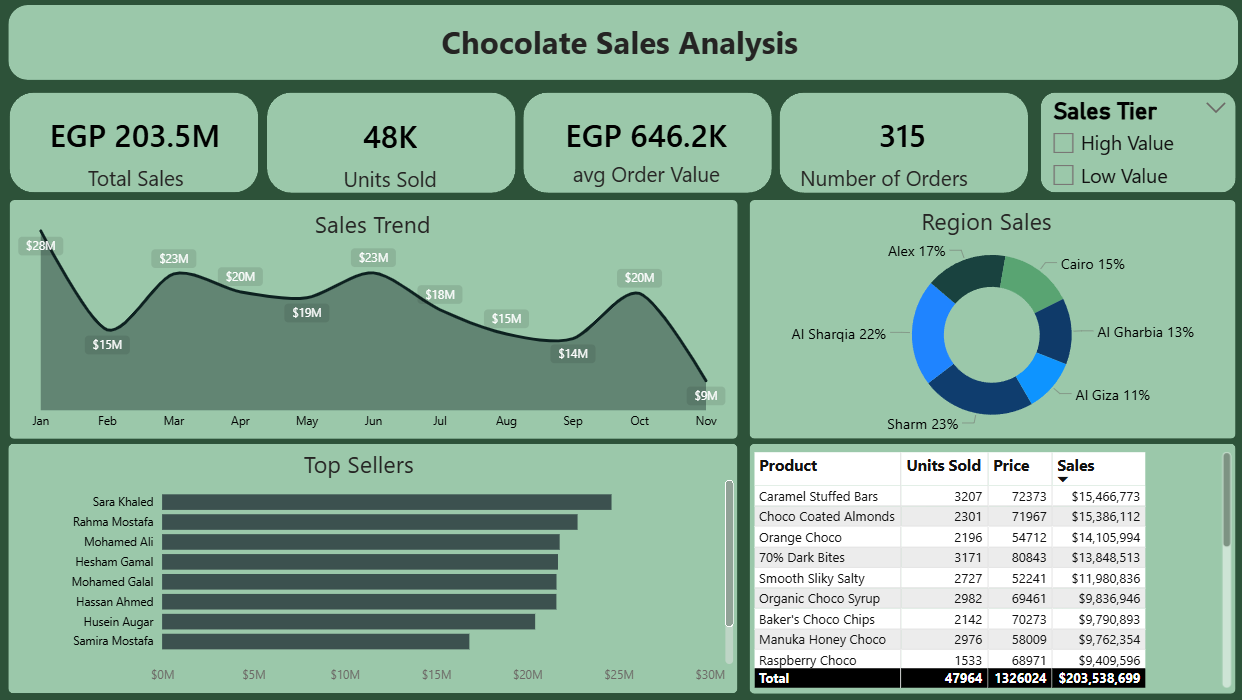

This screenshot's page, from the dashboard's own definition file:
{"tool":"powerbi","page":{"name":"Page 1","canvas":[1280,720],"ordinal":0},"visuals":[{"type":"shape","box":[12.8,94.9,255.1,102.6],"z":0},{"type":"shape","box":[13.2,204.7,746.9,245.2],"z":1000},{"type":"shape","box":[802.3,94.9,255,102.9],"z":2000},{"type":"shape","box":[771.8,205.1,498.7,244.9],"z":3000},{"type":"shape","box":[12,454.7,748,256],"z":4000},{"type":"shape","box":[1070.5,94.9,200,102.6],"z":4500},{"type":"shape","box":[771.8,455.1,498.7,256.4],"z":5000},{"type":"shape","box":[539.5,94.9,255,102.9],"z":6000},{"type":"shape","box":[276.6,94.9,255,102.9],"z":7000},{"type":"shape","box":[11.5,5.1,1261.5,76.9],"z":8000},{"type":"textbox","box":[71.8,162.8,141,50],"z":9000},{"type":"textbox","box":[330.1,16.5,618.6,54.3],"z":10000},{"type":"textbox","box":[275.6,164.1,255.1,50],"z":11000},{"type":"cardVisual","fields":{"Data":["Raw-data.Average Order Value"]},"box":[538.7,102.6,255.1,67.9],"z":12000},{"type":"textbox","box":[538.7,159,255.1,50],"z":13000},{"type":"cardVisual","fields":{"Data":["Raw-data.Number of Orders"]},"box":[801.3,102.6,255.1,67.9],"z":14000},{"type":"cardVisual","fields":{"Data":["Raw-data.Total Sales"]},"box":[14.1,102.6,255.1,67.9],"z":15000},{"type":"textbox","box":[782.1,162.8,255.1,50],"z":16000},{"type":"lineChart","fields":{"Y":["Raw-data.Total Sales"],"Category":["Raw-data.Months"]},"box":[13.2,207.5,746.9,242.3],"z":17000},{"type":"donutChart","fields":{"Y":["Raw-data.Total Sales"],"Category":["Raw-data.Geography"]},"box":[770.5,233.3,500,220.5],"z":18000},{"type":"textbox","box":[230.9,209,309.3,49.9],"z":19000},{"type":"textbox","box":[860.8,205.1,309.3,49.9],"z":20000},{"type":"cardVisual","fields":{"Data":["Raw-data.Number of Units Sold"]},"box":[275.6,103.8,255.1,67.9],"z":21000},{"type":"clusteredBarChart","fields":{"Category":["Raw-data.Sales Person"],"Y":["Raw-data.Total Sales"]},"box":[11.5,479.5,748.7,230.8],"z":22000},{"type":"textbox","box":[217.2,454.9,308.8,50],"z":23000},{"type":"tableEx","fields":{"Values":["Raw-data.Product","Sum(Raw-data.Units)","Sum(Raw-data.Amount)","Sum(Raw-data.Total)"]},"box":[770.5,459,500,251.3],"z":24000},{"type":"slicer","fields":{"Values":["Raw-data.Sale Preformance"]},"box":[1070.5,94.9,202.6,115.4],"z":25000}]}

Visuals, with their boxes in screenshot pixels (x1, y1, x2, y2), scaled from the page's 1280x720 canvas onto the 1242x700 screenshot:
shape: [left=12, top=92, right=260, bottom=192]
shape: [left=13, top=199, right=738, bottom=437]
shape: [left=778, top=92, right=1026, bottom=192]
shape: [left=749, top=199, right=1233, bottom=438]
shape: [left=12, top=442, right=737, bottom=691]
shape: [left=1039, top=92, right=1233, bottom=192]
shape: [left=749, top=442, right=1233, bottom=692]
shape: [left=523, top=92, right=771, bottom=192]
shape: [left=268, top=92, right=516, bottom=192]
shape: [left=11, top=5, right=1235, bottom=80]
textbox: [left=70, top=158, right=206, bottom=207]
textbox: [left=320, top=16, right=921, bottom=69]
textbox: [left=267, top=160, right=515, bottom=208]
cardVisual - Raw-data.Average Order Value: [left=523, top=100, right=770, bottom=166]
textbox: [left=523, top=155, right=770, bottom=203]
cardVisual - Raw-data.Number of Orders: [left=778, top=100, right=1025, bottom=166]
cardVisual - Raw-data.Total Sales: [left=14, top=100, right=261, bottom=166]
textbox: [left=759, top=158, right=1006, bottom=207]
lineChart - Raw-data.Total Sales x Raw-data.Months: [left=13, top=202, right=738, bottom=437]
donutChart - Raw-data.Total Sales x Raw-data.Geography: [left=748, top=227, right=1233, bottom=441]
textbox: [left=224, top=203, right=524, bottom=252]
textbox: [left=835, top=199, right=1135, bottom=248]
cardVisual - Raw-data.Number of Units Sold: [left=267, top=101, right=515, bottom=167]
clusteredBarChart - Raw-data.Sales Person x Raw-data.Total Sales: [left=11, top=466, right=738, bottom=691]
textbox: [left=211, top=442, right=510, bottom=491]
tableEx - Raw-data.Product x Sum(Raw-data.Units): [left=748, top=446, right=1233, bottom=691]
slicer - Raw-data.Sale Preformance: [left=1039, top=92, right=1235, bottom=204]
